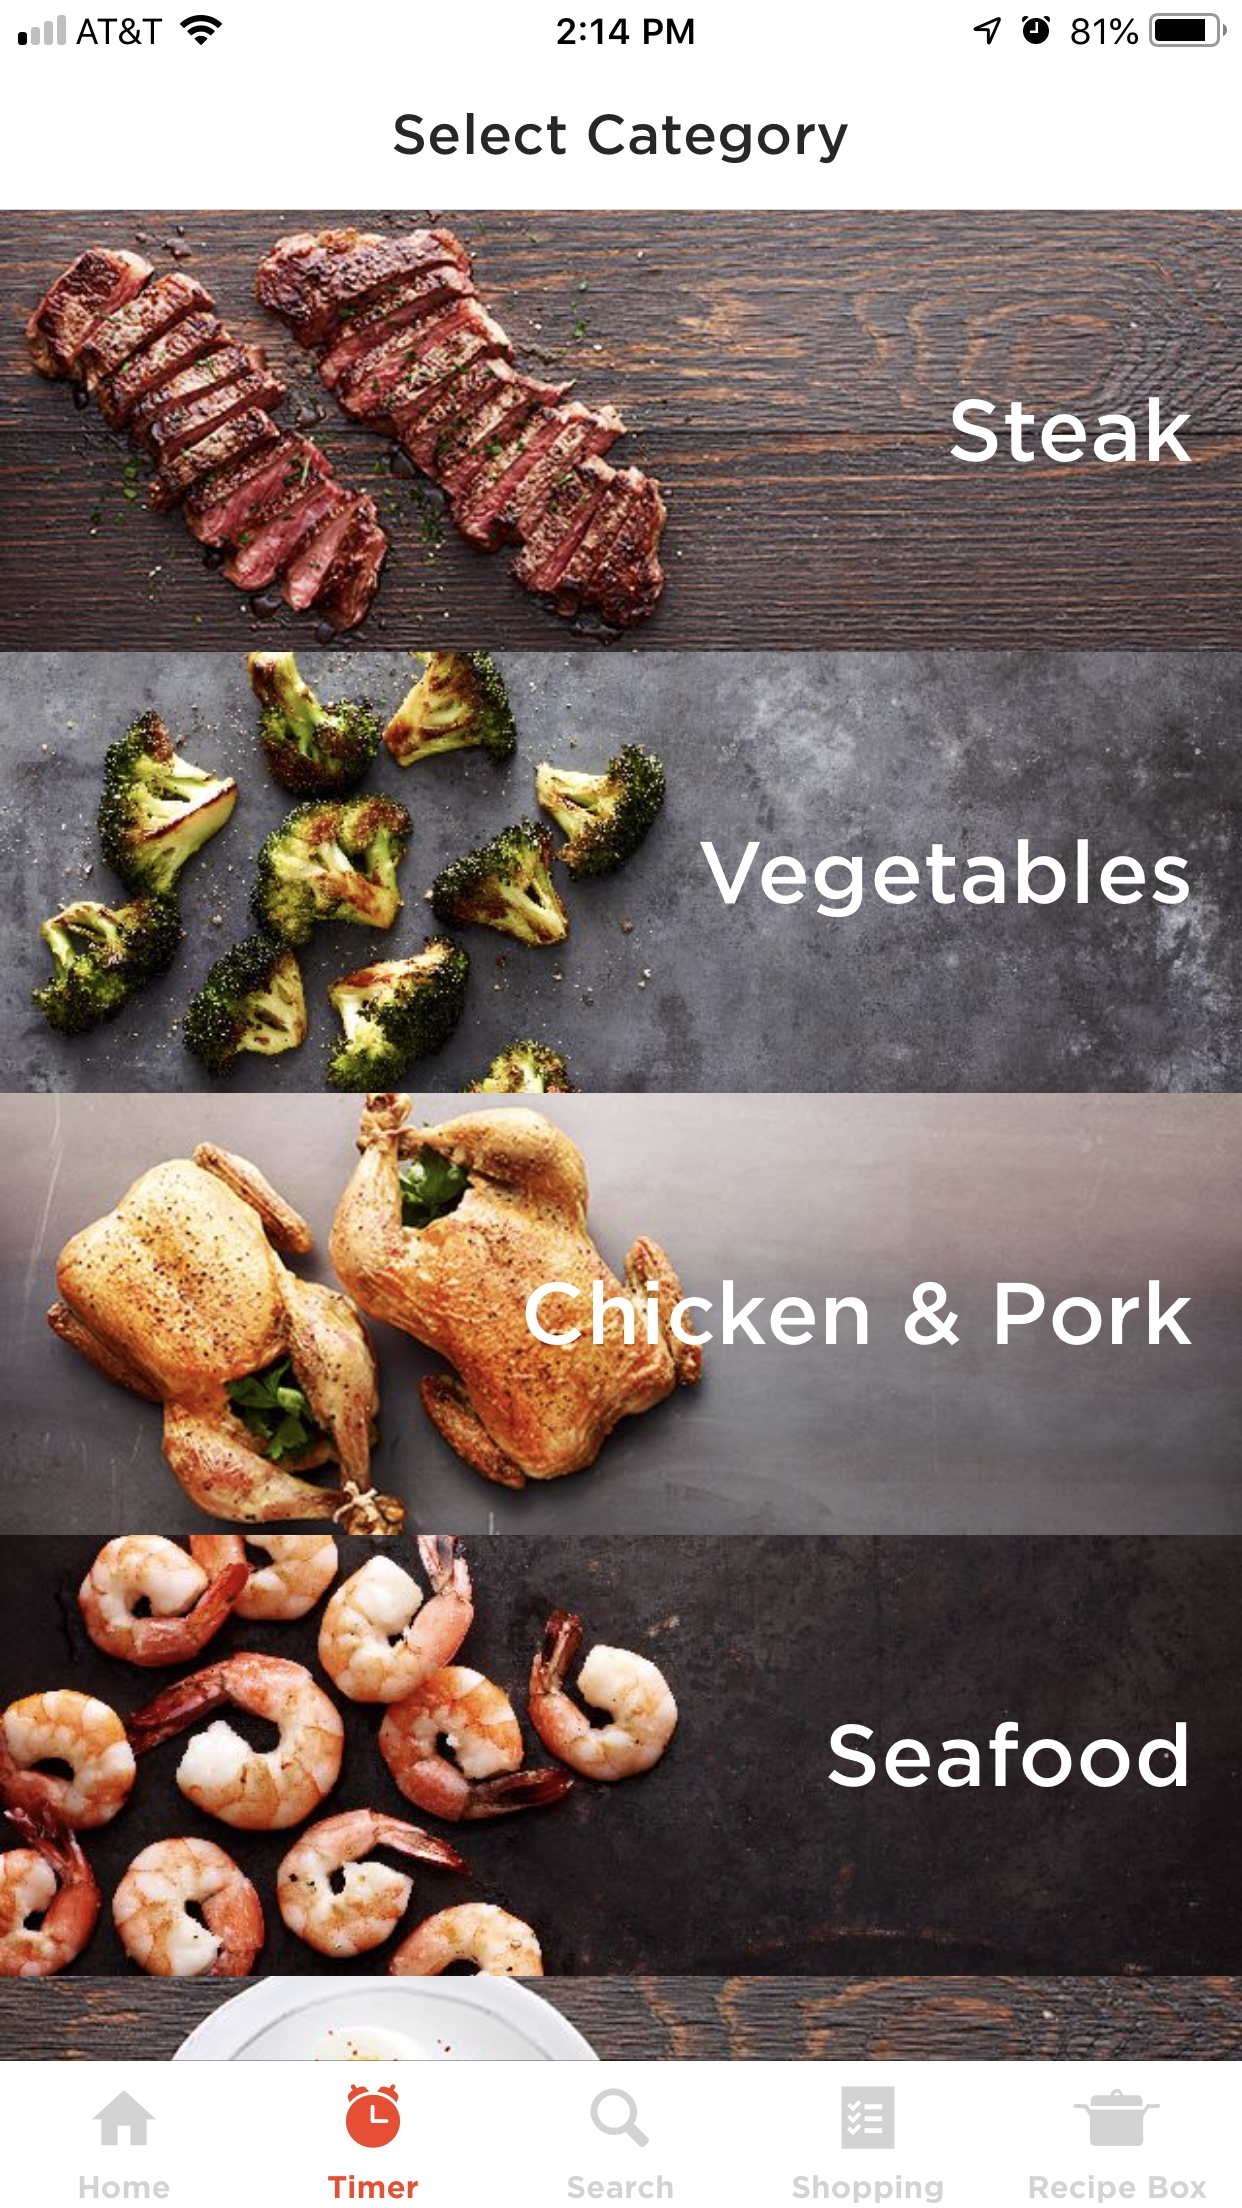Icon: (590, 2087, 651, 2147), (93, 2090, 158, 2146), (346, 2084, 400, 2147), (842, 2087, 895, 2150)
Image: (2, 1535, 1242, 1976), (2, 212, 1242, 654), (2, 652, 1242, 1093), (2, 1093, 1242, 1535), (2, 1976, 1242, 2061), (1072, 2088, 1162, 2147)
Text: (525, 1280, 1192, 1347), (699, 839, 1190, 919), (828, 1721, 1187, 1789), (394, 114, 849, 165), (949, 397, 1192, 464), (1030, 2175, 1207, 2203), (792, 2175, 943, 2203), (569, 2175, 673, 2199), (329, 2175, 420, 2199), (80, 2175, 171, 2199)
UpperTaskBar: (2, 2, 1242, 49)
